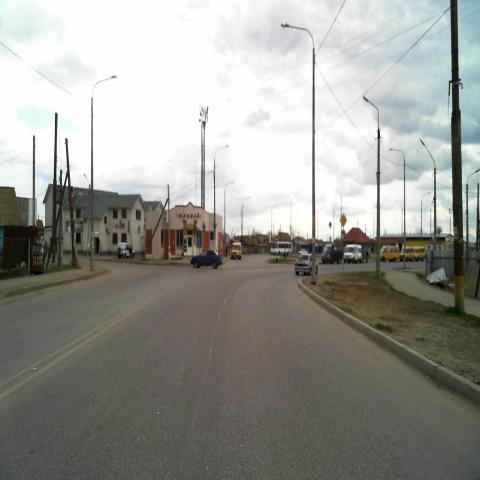2_1: (340, 213, 346, 226)
3_18_2: (340, 229, 346, 239)
